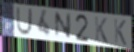2: (74, 13, 90, 44)
4: (36, 9, 52, 40)
K: (113, 18, 128, 47), (94, 16, 109, 45)
N: (54, 12, 72, 41)
U: (16, 6, 34, 37)
